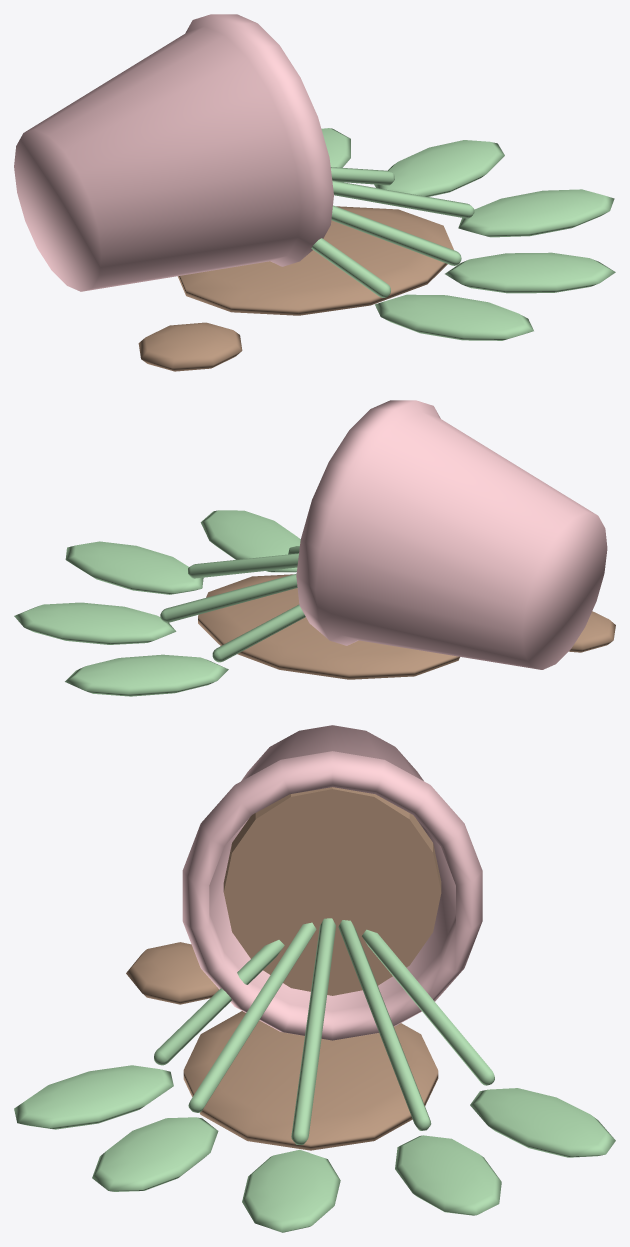
File: companion-animals-and-pet-home-plant-knocked-over-33e08a2d__20679.glb
3 views of the same model, one above another, from view 1: azimuth 30°, elevation 25°; view 2: azimuth 150°, elevation 25°; view 3: azimuth 270°, elevation 25° (orthographic). The views are drawn at different scales.
Parts seen in each view (by area): view 1: plant-knocked-over; view 2: plant-knocked-over; view 3: plant-knocked-over.
Part boxes in pixels (x1,y1,x2,y2): plant-knocked-over: (14,14,615,371); plant-knocked-over: (14,400,615,696); plant-knocked-over: (14,725,615,1232).
Size of the model in its own units: 0.6585 by 0.3067 by 0.5532.
